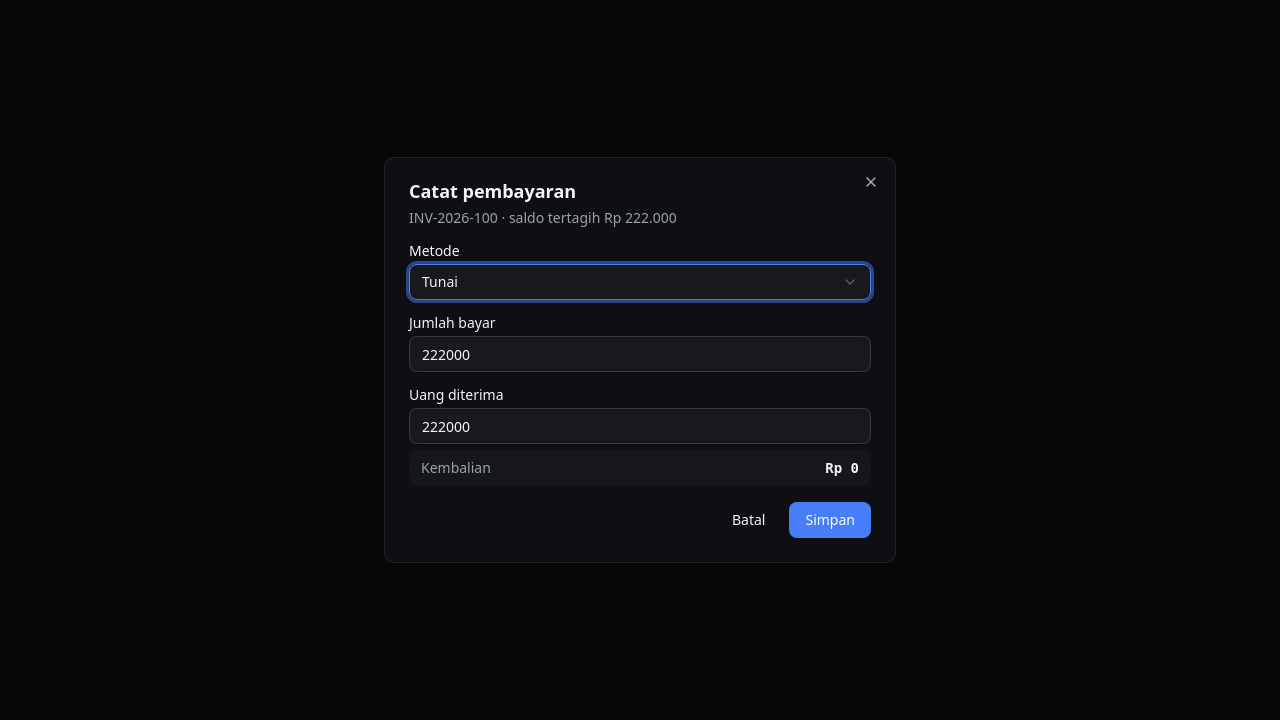
Test case: LoketPayDialog › blocks a cash payment when tendered is less than the amount
This screenshot has width=1280, height=720.
Replace the text in the number field labelled "Uang diterima" with "100000" at (640, 426), box [409,408,871,444]
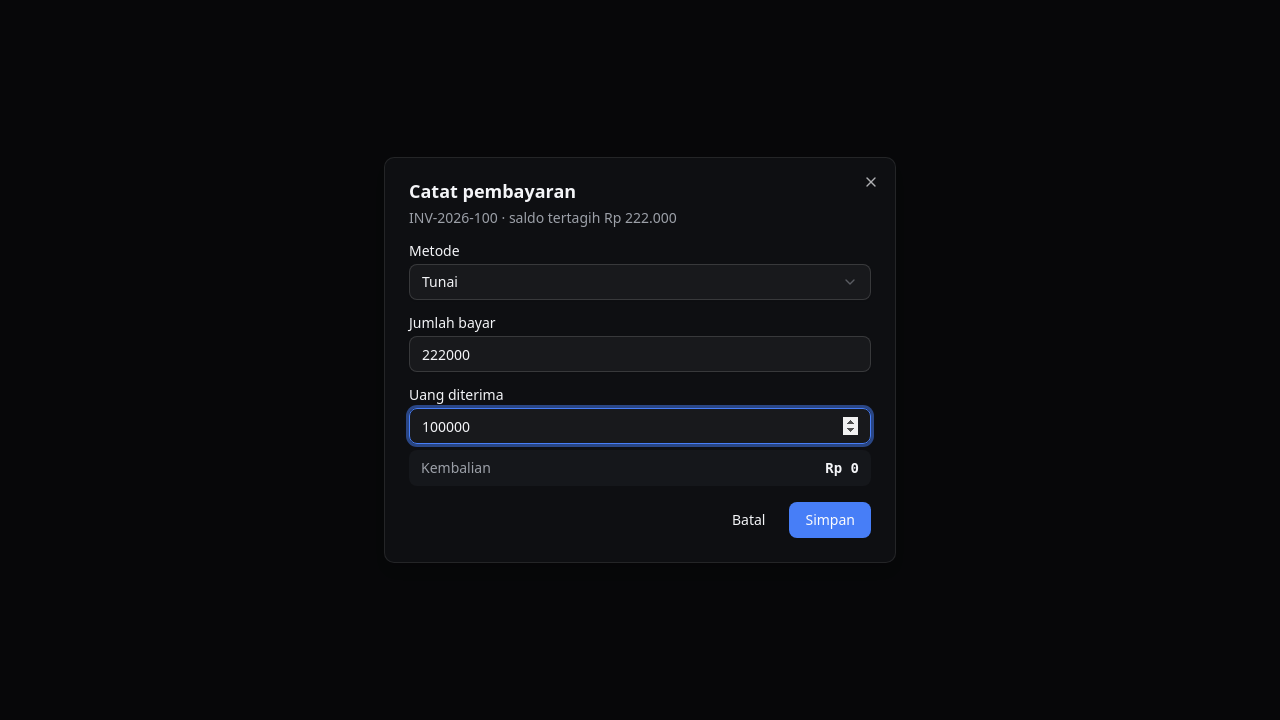
Click the button "Simpan" at (830, 520), box [790,502,871,538]
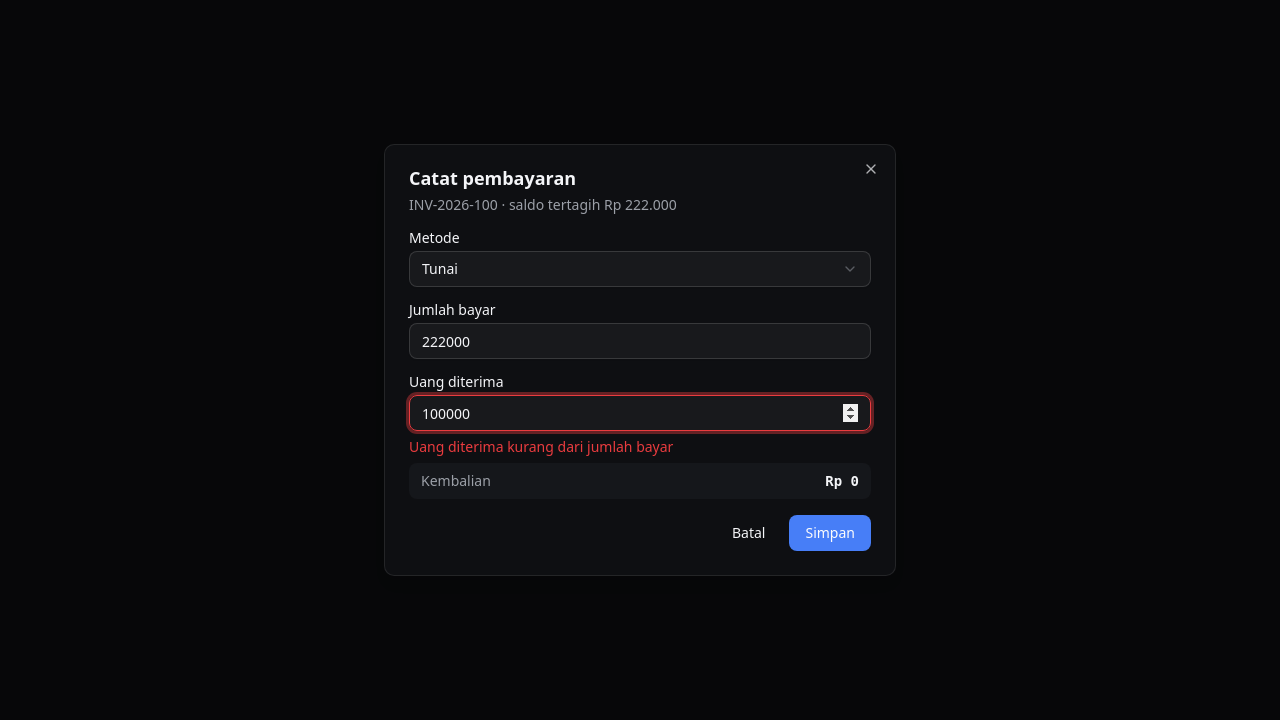
expect the text "Uang diterima kurang dari jumlah bayar" is shown: met, box [409,437,673,456]
